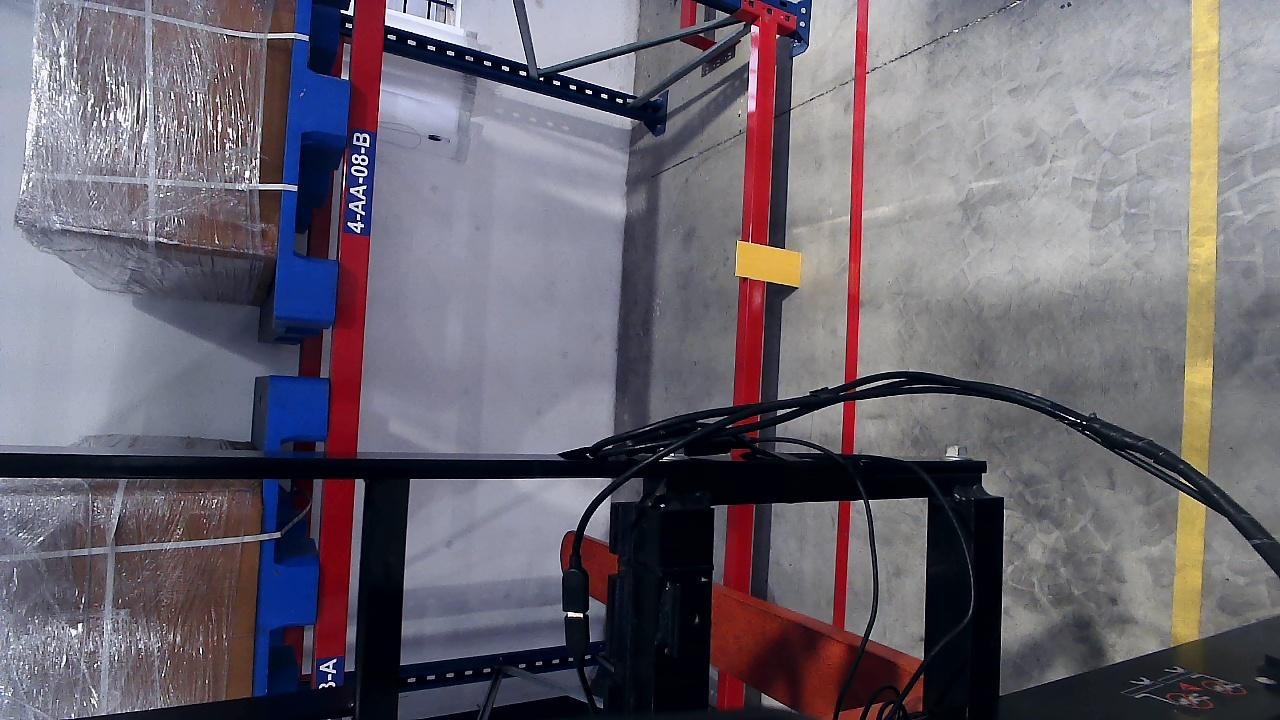h_rack: (313, 0, 392, 687), (720, 11, 780, 581)
orange_strip: (735, 241, 801, 287)
red_line: (836, 0, 869, 627)
small_pallet: (270, 0, 367, 321), (254, 377, 335, 691)
yellow_line: (1169, 0, 1222, 640)
